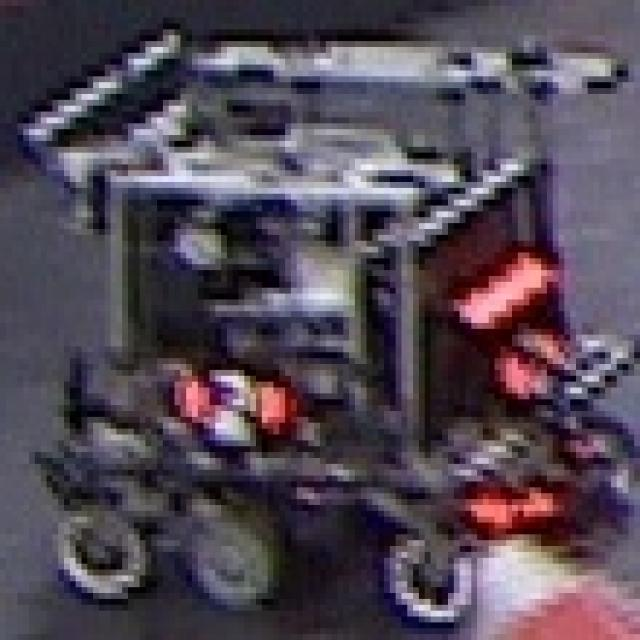R2: (169, 358, 285, 435), (494, 311, 564, 405)
